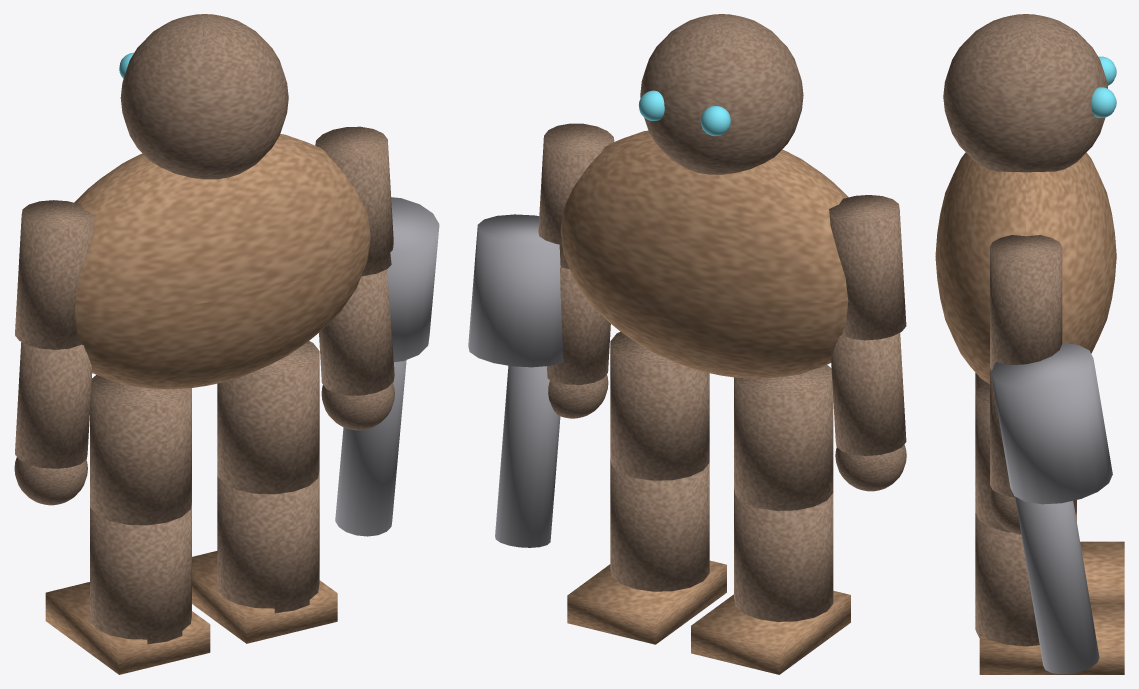
File: ogre-mage.glb
3 renders of one model, left to right at view 1: azimuth 30°, elevation 25°; view 2: azimuth 150°, elevation 25°; view 3: azimuth 270°, elevation 25°, orthographic. The views are drawn at different scales.
Parts seen in each view (by area): view 1: Torso, Head, ThighL, ThighR, ShinR, ShinL, UpperArmL, ForearmL, ForearmR, ClubShaft, ClubHead, FootL (+4 smaller); view 2: Torso, Head, ThighL, ClubHead, ThighR, ShinR, ShinL, ClubShaft, UpperArmL, ForearmL, FootR, FootL (+6 smaller); view 3: Torso, Head, ClubHead, ClubShaft, UpperArmR, ShinR, FootR, FootL, ThighR, ForearmR, HandR, Eye.001 (+1 smaller).
Boxes of the visible parts, x1,y1,x2,y2 form: Torso: [74, 134, 370, 389]; Head: [120, 14, 288, 179]; ThighL: [90, 375, 191, 525]; ThighR: [217, 341, 319, 494]; ShinR: [217, 470, 319, 613]; ShinL: [90, 503, 191, 644]; UpperArmL: [15, 200, 94, 349]; ForearmL: [15, 342, 92, 468]; ForearmR: [319, 269, 394, 395]; ClubShaft: [335, 360, 406, 536]; ClubHead: [387, 197, 439, 361]; FootL: [45, 582, 210, 674]; Torso: [560, 130, 848, 378]; Head: [640, 14, 803, 174]; ThighL: [734, 365, 833, 510]; ClubHead: [468, 214, 563, 367]; ThighR: [610, 332, 709, 480]; ShinR: [610, 458, 709, 591]; ShinL: [734, 488, 833, 621]; ClubShaft: [495, 365, 560, 547]; UpperArmL: [829, 195, 906, 340]; ForearmL: [831, 333, 906, 455]; FootR: [567, 560, 726, 644]; FootL: [691, 590, 850, 674]; Torso: [935, 152, 1116, 384]; Head: [943, 14, 1107, 172]; ClubHead: [991, 342, 1112, 504]; ClubShaft: [1015, 497, 1099, 674]; UpperArmR: [990, 235, 1062, 370]; ShinR: [975, 512, 1076, 646]; FootR: [979, 603, 1124, 674]; FootL: [1080, 541, 1124, 602]; ThighR: [975, 382, 1076, 532]; ForearmR: [990, 368, 1015, 497]; HandR: [990, 489, 1021, 534]; Eye.001: [1091, 87, 1116, 118].
Bounding box in the file's own units: 0.7246 × 1 × 0.2852.
Materials: 4 (2 with a texture image).
